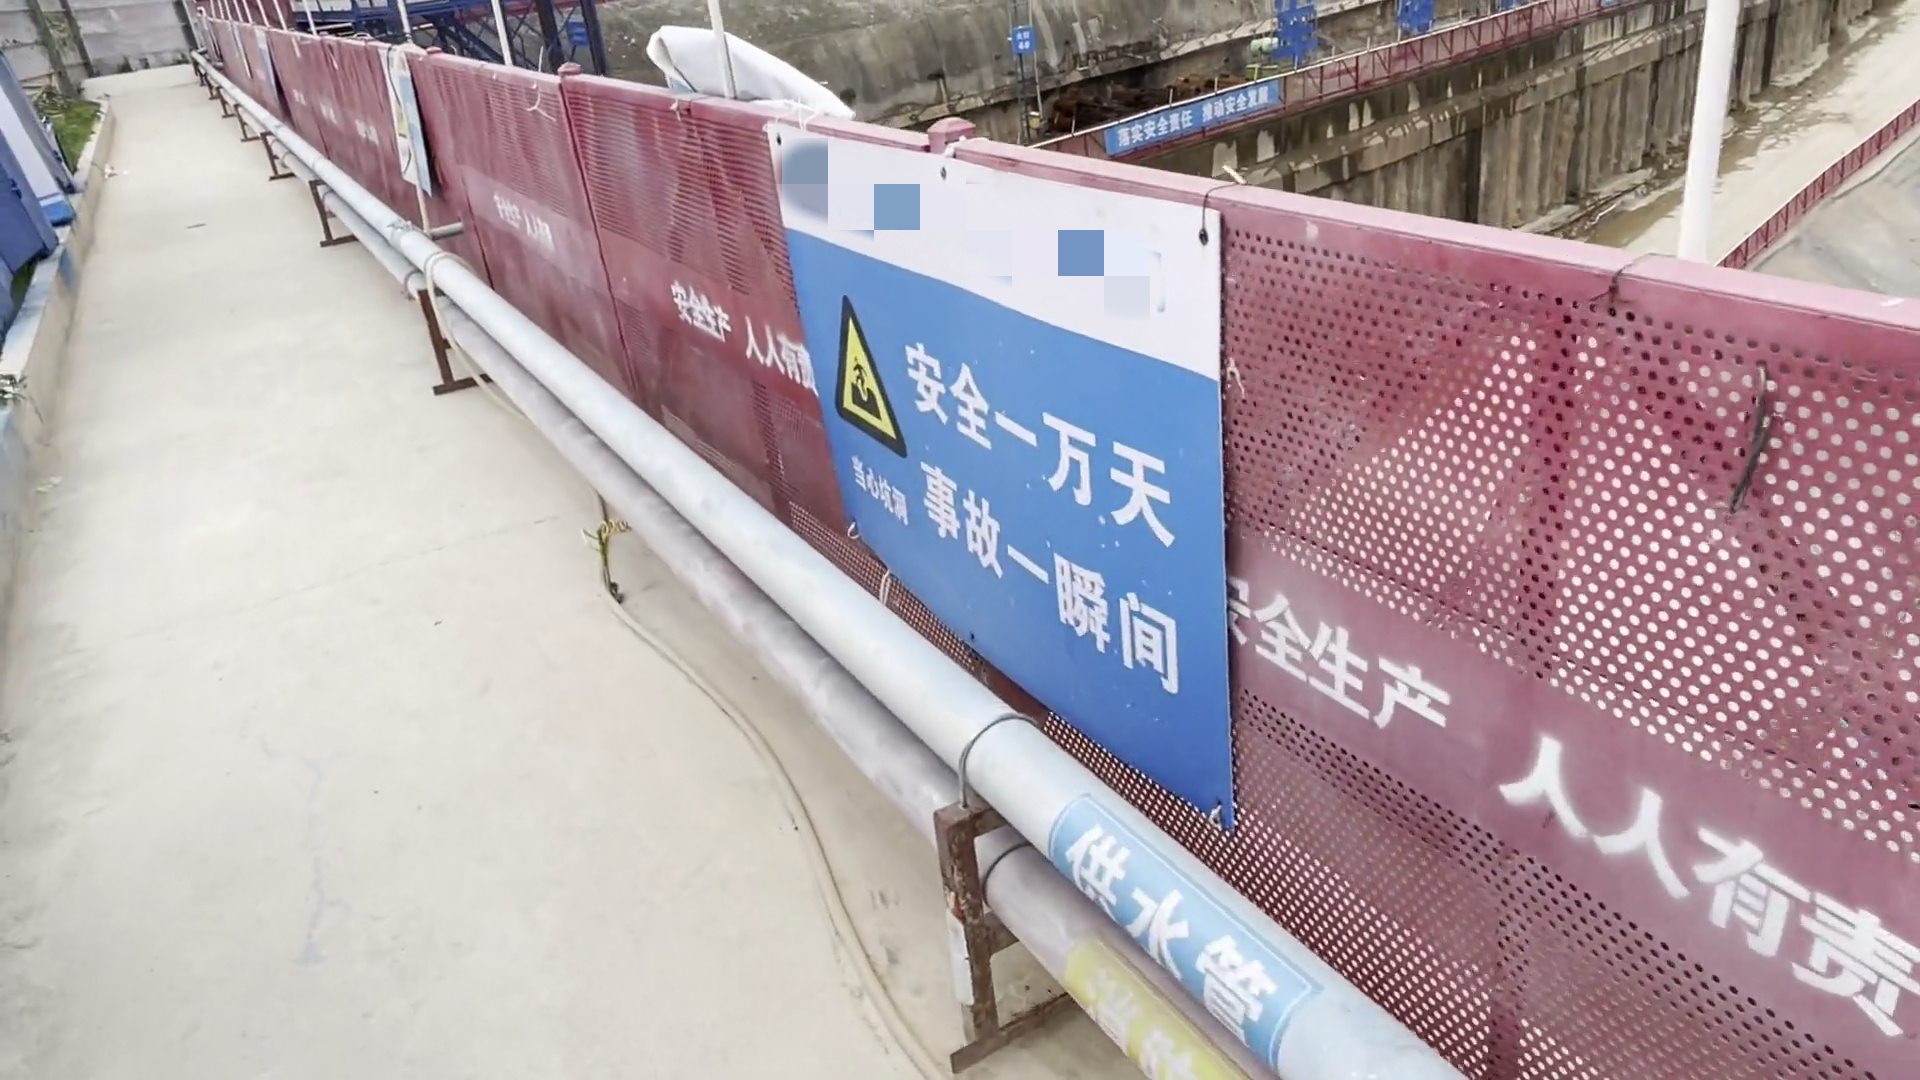fence: (1287, 218, 1920, 1048)
slogan: (764, 127, 1244, 825), (1083, 74, 1282, 160)
